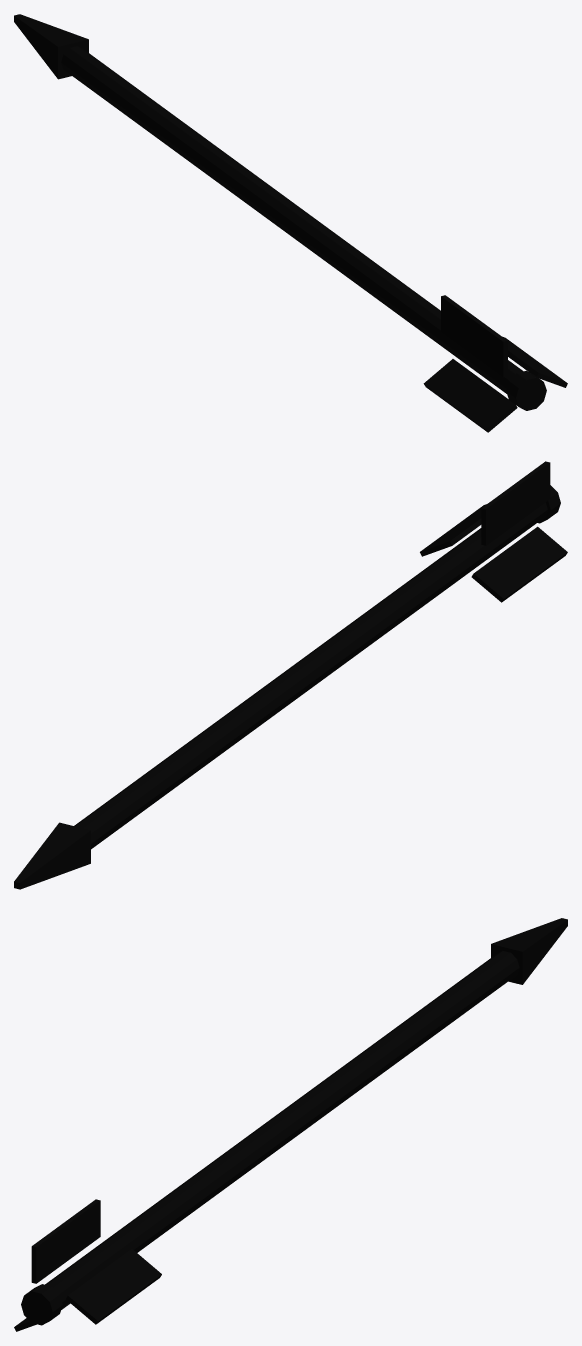
File: crossbow_bolt_part.obj
The picture shows the model from 3 angles, top to bottom: view 1: azimuth 30°, elevation 25°; view 2: azimuth 150°, elevation 25°; view 3: azimuth 330°, elevation 25°; orthographic projection. The views are drawn at different scales.
Visible parts, largest first — view 1: crossbow_bolt_part; view 2: crossbow_bolt_part; view 3: crossbow_bolt_part.
Boxes of the visible parts, x1,y1,x2,y2 form: crossbow_bolt_part: (14,14,567,432); crossbow_bolt_part: (14,461,567,889); crossbow_bolt_part: (14,918,567,1331).
Size of the model in its own units: 0.0512 by 0.0521 by 0.5562.
